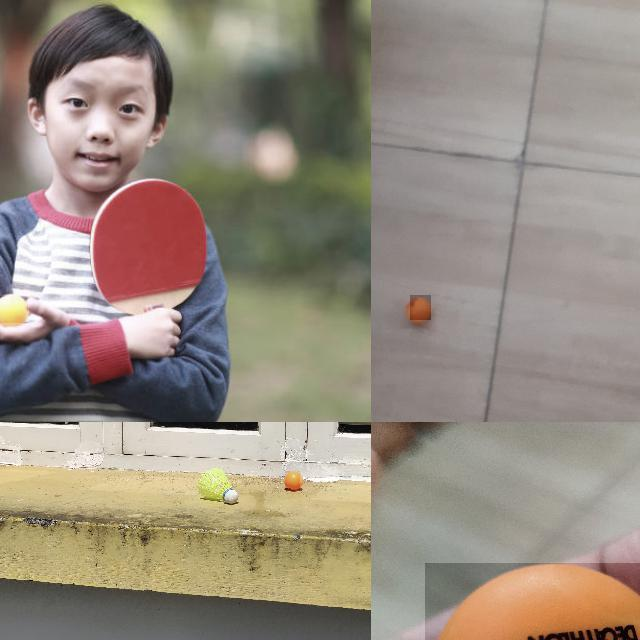ping-pong-ball: (425, 563, 639, 639), (0, 296, 29, 325), (410, 295, 432, 321), (284, 471, 302, 491)
